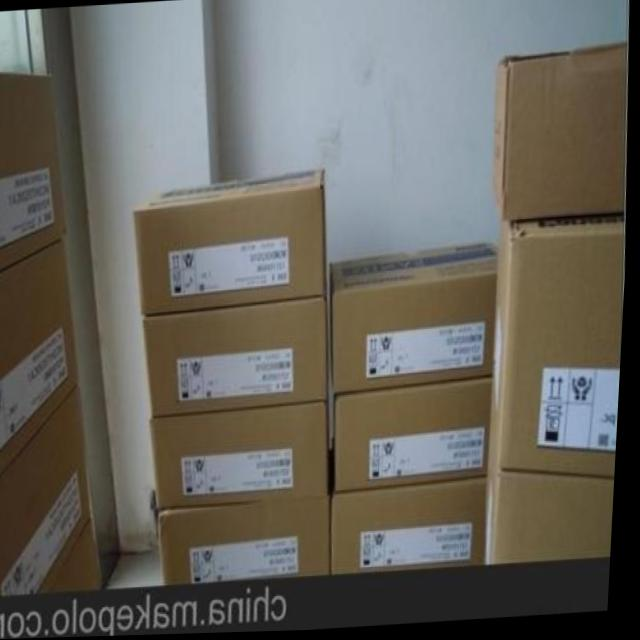box: (494, 216, 626, 483), (135, 170, 329, 318), (331, 244, 504, 391), (493, 48, 628, 224), (144, 299, 333, 422), (0, 384, 97, 595), (0, 238, 83, 481), (157, 403, 332, 511), (334, 383, 495, 491), (491, 445, 620, 565), (162, 500, 336, 586), (335, 478, 491, 573), (0, 70, 68, 274), (56, 519, 108, 592)
